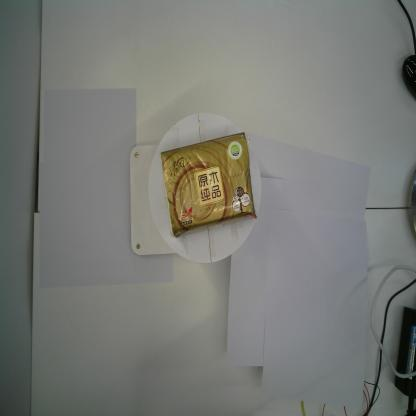Tissue: (160, 131, 257, 238)
